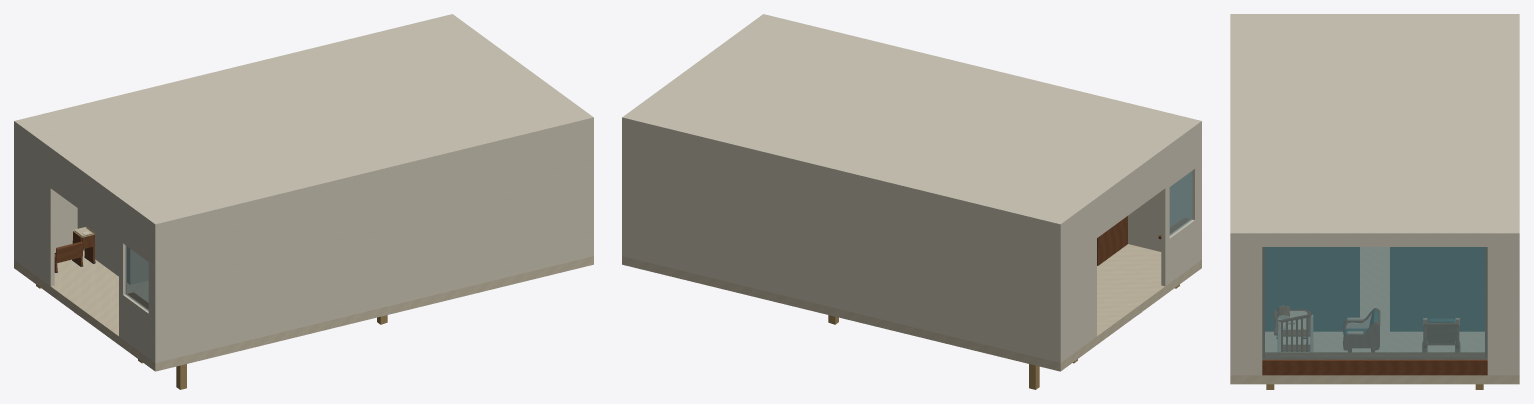
File: QuietGroveBank_571_r001.glb
The picture shows the model from 3 angles, left to right: view 1: azimuth 30°, elevation 25°; view 2: azimuth 150°, elevation 25°; view 3: azimuth 270°, elevation 25°; orthographic projection. The views are drawn at different scales.
Visible parts, largest first — view 1: QG571_Ceiling, QG571_NorthSide, QG571_RoomFloor, QG571_EntryShoulderSouth, QG571_EntryHeader, QG571_StreetWindowLower, QG571_WashEntrySide, QG571_SouthSide, QG571_StreetWindowUpper, QG571_ScreenedStreetGlass, QGB571_CourtSouthPier; view 2: QG571_Ceiling, QG571_SouthSide, QG571_RoomFloor, QG571_EntryShoulderSouth, QG571_NorthSide, QG571_EntryHeader, QG571_StreetWindowLower, QG571_StreetWindowUpper, QG571_ScreenedStreetGlass, QG571_EntryPrivacyDogleg; view 3: QG571_Ceiling, QGB571_PrivateCourtGlass, QG571_RoomFloor, QG571_Cocoon02_RearLiner, QG571_Cocoon01_RearLiner, QGB571_CourtNorthPier, QGB571_CourtSouthPier, QGB571_CourtSill, QGB571_CourtHeader, QGB571_DeepReveal_0.34, QG571_NorthSide, QG571_SouthSide (+4 smaller).
Part boxes in pixels (left/top/right/bottom): QG571_Ceiling: left=14, top=14, right=593, bottom=229; QG571_NorthSide: left=153, top=123, right=593, bottom=362; QG571_RoomFloor: left=14, top=250, right=593, bottom=371; QG571_EntryShoulderSouth: left=16, top=128, right=54, bottom=286; QG571_EntryHeader: left=49, top=153, right=119, bottom=238; QG571_StreetWindowLower: left=119, top=292, right=152, bottom=360; QG571_WashEntrySide: left=77, top=208, right=133, bottom=284; QG571_SouthSide: left=14, top=127, right=77, bottom=260; QG571_StreetWindowUpper: left=119, top=203, right=152, bottom=264; QG571_ScreenedStreetGlass: left=125, top=245, right=148, bottom=310; QGB571_CourtSouthPier: left=585, top=123, right=593, bottom=257; QG571_Ceiling: left=622, top=14, right=1201, bottom=229; QG571_SouthSide: left=622, top=123, right=1062, bottom=362; QG571_RoomFloor: left=622, top=244, right=1201, bottom=371; QG571_EntryShoulderSouth: left=1063, top=203, right=1096, bottom=360; QG571_NorthSide: left=1128, top=127, right=1201, bottom=260; QG571_EntryHeader: left=1096, top=154, right=1165, bottom=238; QG571_StreetWindowLower: left=1161, top=217, right=1199, bottom=286; QG571_StreetWindowUpper: left=1163, top=128, right=1199, bottom=190; QG571_ScreenedStreetGlass: left=1169, top=171, right=1192, bottom=235; QG571_EntryPrivacyDogleg: left=1097, top=216, right=1127, bottom=265; QG571_Ceiling: left=1230, top=14, right=1519, bottom=238; QGB571_PrivateCourtGlass: left=1262, top=247, right=1487, bottom=359; QG571_RoomFloor: left=1230, top=247, right=1519, bottom=384; QG571_Cocoon02_RearLiner: left=1392, top=247, right=1484, bottom=331; QG571_Cocoon01_RearLiner: left=1265, top=247, right=1357, bottom=331; QGB571_CourtNorthPier: left=1487, top=239, right=1519, bottom=375; QGB571_CourtSouthPier: left=1230, top=239, right=1262, bottom=375; QGB571_CourtSill: left=1262, top=358, right=1487, bottom=375; QGB571_CourtHeader: left=1262, top=239, right=1487, bottom=246; QGB571_DeepReveal_0.34: left=1265, top=352, right=1484, bottom=357; QG571_NorthSide: left=1230, top=239, right=1234, bottom=375; QG571_SouthSide: left=1515, top=239, right=1519, bottom=375.
Size of the model in its own units: 12.9 by 5.31 by 7.2.
Materials: 73 (49 with a texture image).
